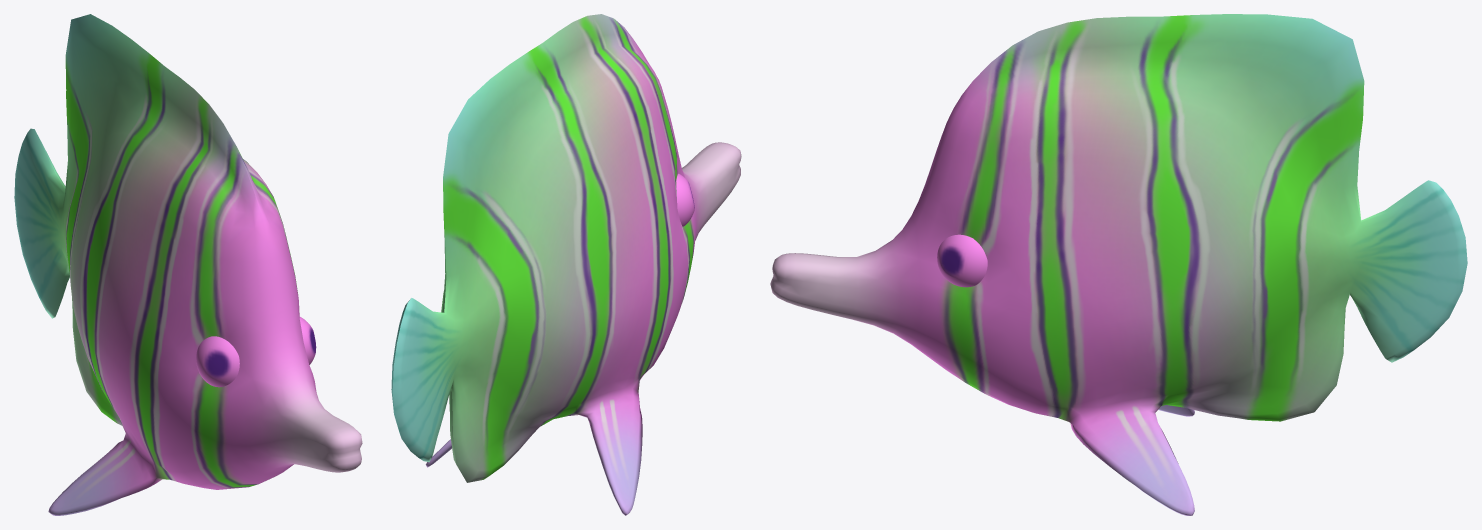
The model's file is fish.fbx.
3 renders of one model, left to right at view 1: azimuth 30°, elevation 25°; view 2: azimuth 150°, elevation 25°; view 3: azimuth 270°, elevation 25°, orthographic. The views are drawn at different scales.
Visible parts, largest first — view 1: body, eyes; view 2: body, eyes; view 3: body, eyes.
Boxes of the visible parts, x1=… form: body: x1=14, y1=14, x2=362, y2=515; eyes: x1=196, y1=317, x2=316, y2=387; body: x1=391, y1=14, x2=741, y2=515; eyes: x1=676, y1=173, x2=694, y2=226; body: x1=770, y1=14, x2=1467, y2=515; eyes: x1=937, y1=234, x2=987, y2=287.
Bounding box in the file's own units: 0.7553 × 1.57 × 2.19.
1 material, 1 textured.
